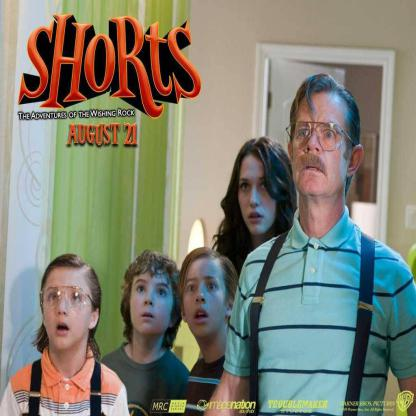face: (296, 97, 346, 196), (44, 271, 92, 350), (185, 258, 225, 335), (239, 155, 277, 234), (134, 263, 172, 337)
